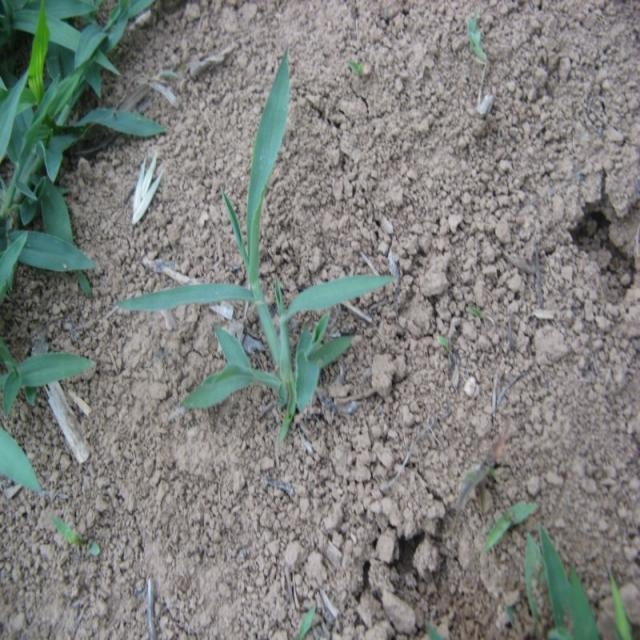bg: (112, 63, 400, 427)
